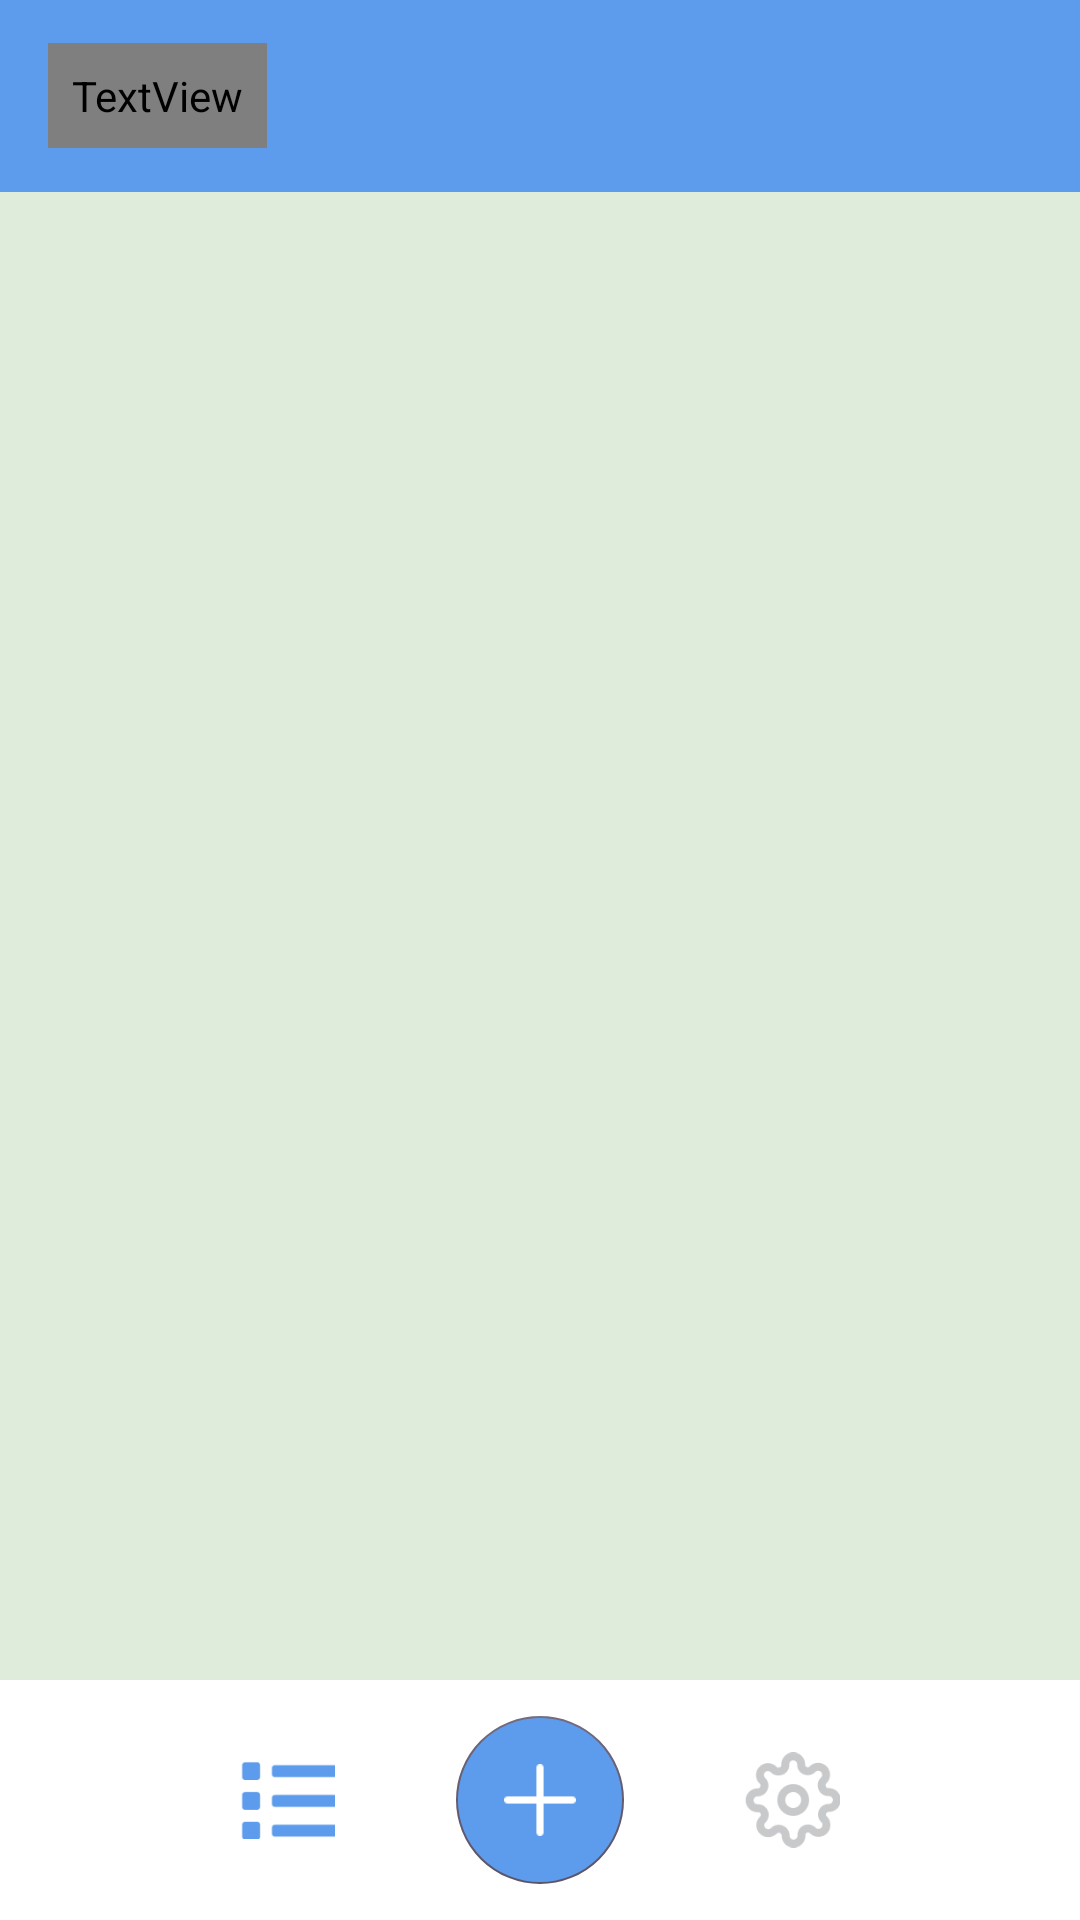

Named icons in this screenshot (1080px x 1920px) and their centers, [x,y]:
add: [540,1818]
